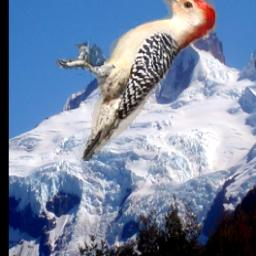Woodpecker: (56, 0, 219, 161)
